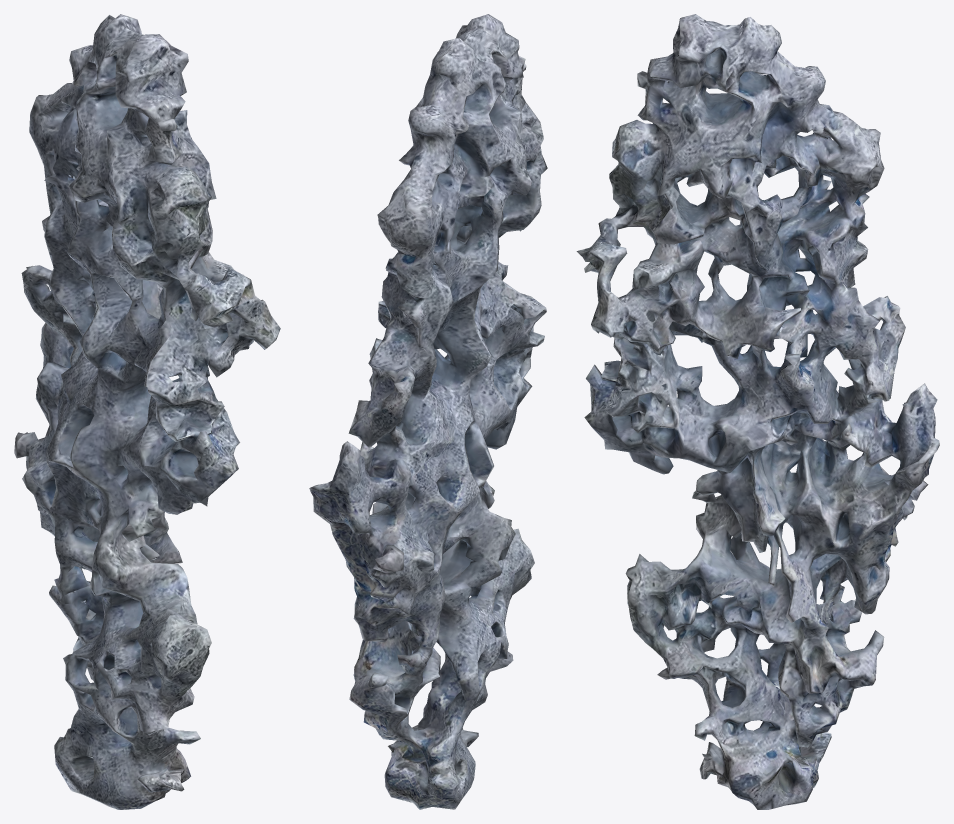
File: rock_scholar.glb
3 views of the same model, side by side, from view 1: azimuth 30°, elevation 25°; view 2: azimuth 150°, elevation 25°; view 3: azimuth 270°, elevation 25° (orthographic). The views are drawn at different scales.
Visible parts, largest first — view 1: tripo_node_63439e56-1ea3-47c4-8e4d-1a85cea68036; view 2: tripo_node_63439e56-1ea3-47c4-8e4d-1a85cea68036; view 3: tripo_node_63439e56-1ea3-47c4-8e4d-1a85cea68036.
Boxes of the visible parts, x1=… form: tripo_node_63439e56-1ea3-47c4-8e4d-1a85cea68036: x1=14, y1=14, x2=280, y2=809; tripo_node_63439e56-1ea3-47c4-8e4d-1a85cea68036: x1=309, y1=14, x2=547, y2=809; tripo_node_63439e56-1ea3-47c4-8e4d-1a85cea68036: x1=576, y1=14, x2=939, y2=809.
Bounding box in the file's own units: 0.1967 × 1 × 0.4282.
Materials: 1 (1 with a texture image).
